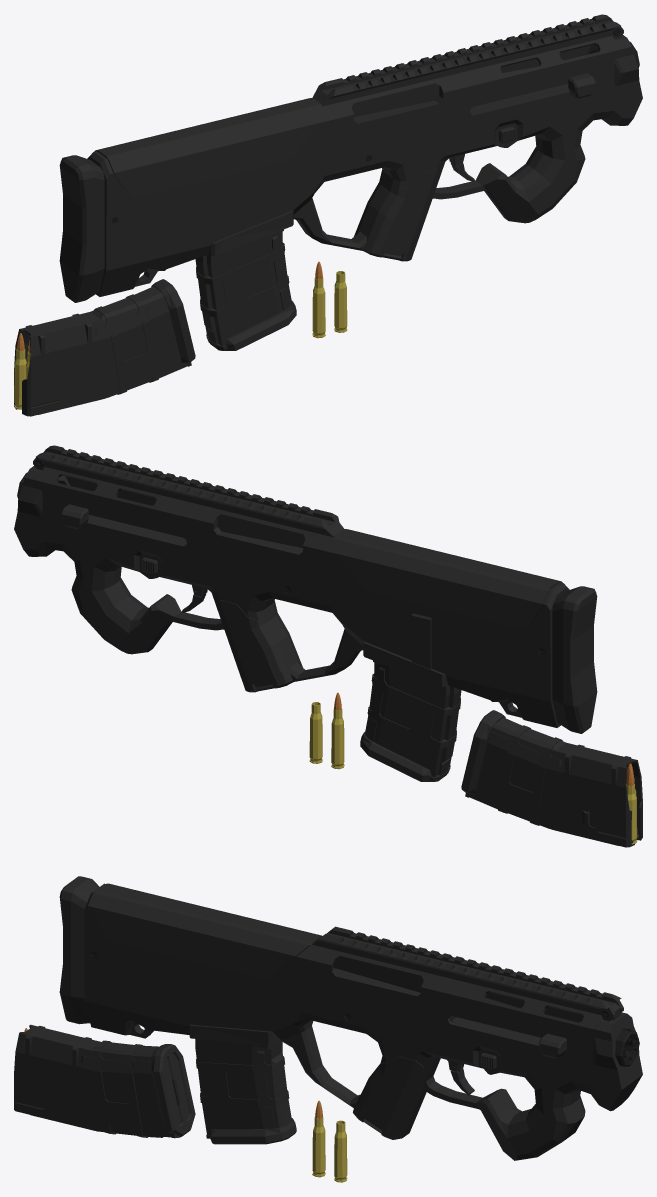
File: low-poly_pdr-c.glb
The picture shows the model from 3 angles, top to bottom: view 1: azimuth 30°, elevation 25°; view 2: azimuth 150°, elevation 25°; view 3: azimuth 330°, elevation 25°; orthographic projection.
Visible parts, largest first — view 1: pdr receiver_7, 55645 ar15 20rnd mag (pmag)_1, 55645 ar15 20rnd mag empty (pmag)_2, 55645 case_3, Object_4, pdr charging handle_4; view 2: pdr receiver_7, 55645 ar15 20rnd mag (pmag)_1, 55645 ar15 20rnd mag empty (pmag)_2, 55645 case_3, Object_4, pdr charging handle_4; view 3: pdr receiver_7, 55645 ar15 20rnd mag (pmag)_1, 55645 ar15 20rnd mag empty (pmag)_2, 55645 case_3, Object_4, pdr muzzle brake_6, pdr charging handle_4, pdr trigga_8.
Part boxes in pixels (bbox=[...]): pdr receiver_7: bbox=[59, 14, 642, 302]; 55645 ar15 20rnd mag (pmag)_1: bbox=[14, 279, 195, 416]; 55645 ar15 20rnd mag empty (pmag)_2: bbox=[195, 229, 296, 350]; 55645 case_3: bbox=[334, 271, 347, 332]; Object_4: bbox=[312, 277, 325, 338]; pdr charging handle_4: bbox=[568, 73, 595, 98]; pdr receiver_7: bbox=[14, 445, 597, 733]; 55645 ar15 20rnd mag (pmag)_1: bbox=[461, 710, 642, 847]; 55645 ar15 20rnd mag empty (pmag)_2: bbox=[360, 660, 461, 781]; 55645 case_3: bbox=[309, 702, 322, 763]; Object_4: bbox=[331, 708, 344, 769]; pdr charging handle_4: bbox=[61, 504, 88, 529]; pdr receiver_7: bbox=[59, 876, 642, 1160]; 55645 ar15 20rnd mag (pmag)_1: bbox=[14, 1024, 195, 1138]; 55645 ar15 20rnd mag empty (pmag)_2: bbox=[195, 1039, 296, 1144]; 55645 case_3: bbox=[334, 1120, 347, 1182]; Object_4: bbox=[312, 1116, 325, 1177]; pdr muzzle brake_6: bbox=[615, 1028, 639, 1066]; pdr charging handle_4: bbox=[539, 1033, 566, 1058]; pdr trigga_8: bbox=[447, 1060, 474, 1095].
Bounding box in the file's own units: 5 × 1.97 × 0.5297.
